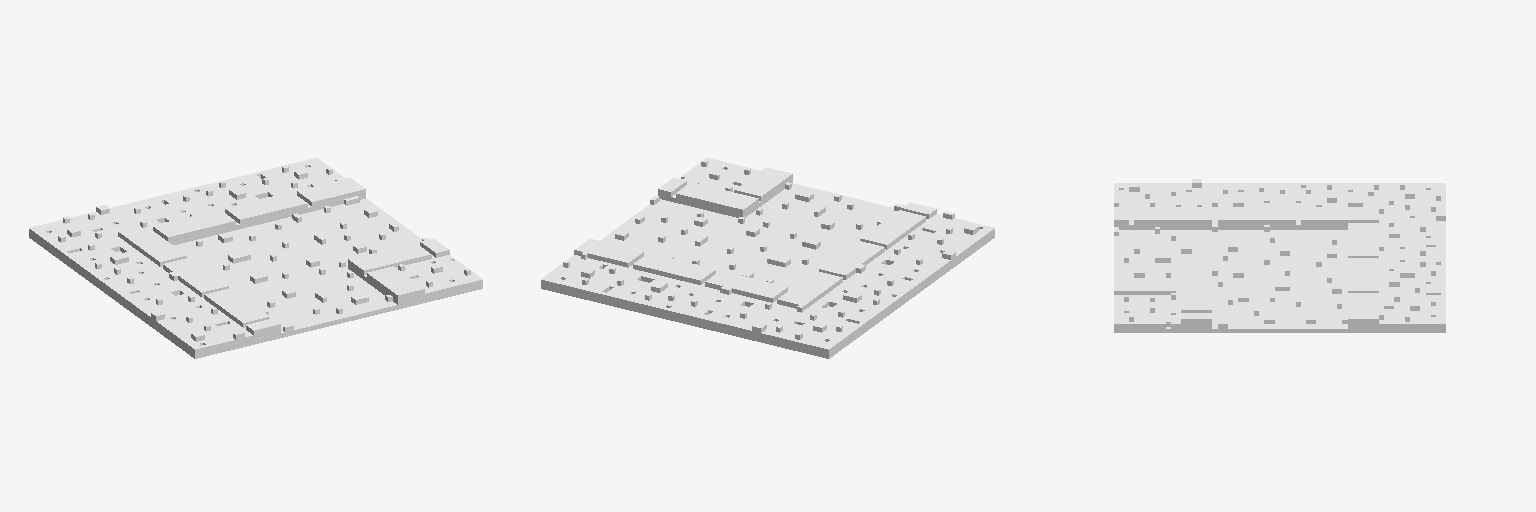
The model's file is EarthPathTurn_1.obj.
3 renders of one model, left to right at view 1: azimuth 30°, elevation 25°; view 2: azimuth 150°, elevation 25°; view 3: azimuth 270°, elevation 25°, orthographic.
Visible parts, largest first — view 1: EarthPathTurn_1; view 2: EarthPathTurn_1; view 3: EarthPathTurn_1.
Part boxes in pixels (x1,y1,x2,y2): EarthPathTurn_1: (29, 158, 482, 358); EarthPathTurn_1: (541, 158, 994, 358); EarthPathTurn_1: (1114, 179, 1445, 332).
Bounding box in the file's own units: 1 × 0.0469 × 1.